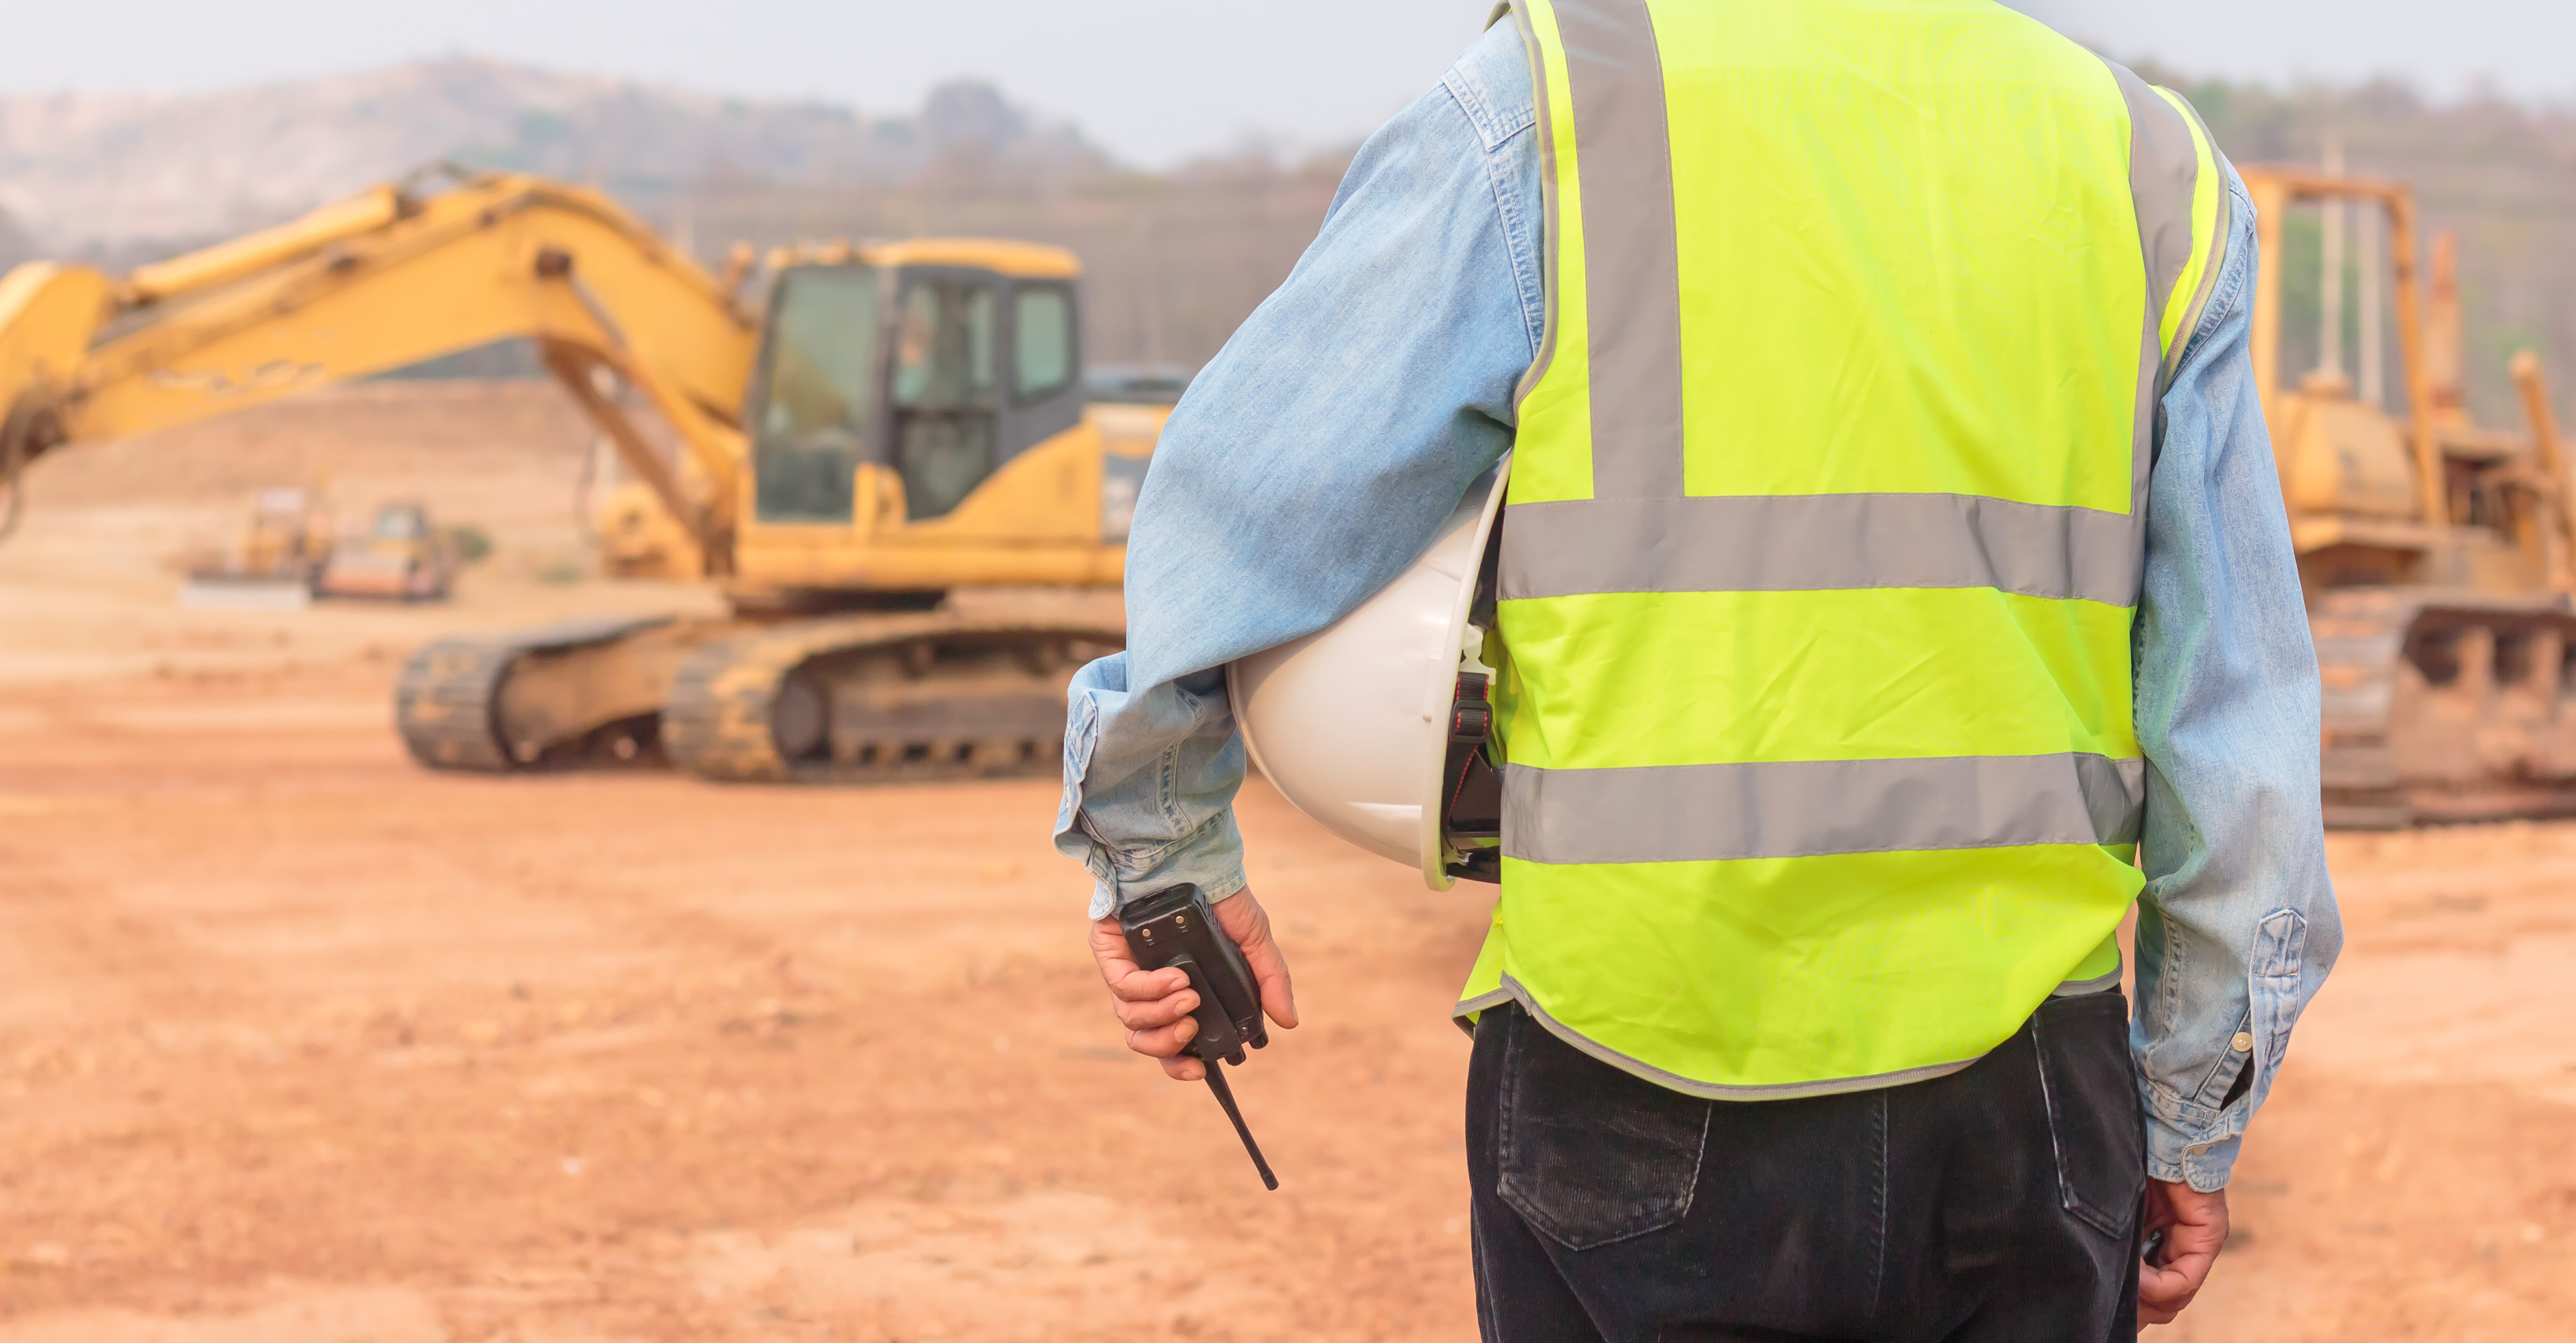Reflective vest: (1465, 0, 2228, 1067)
